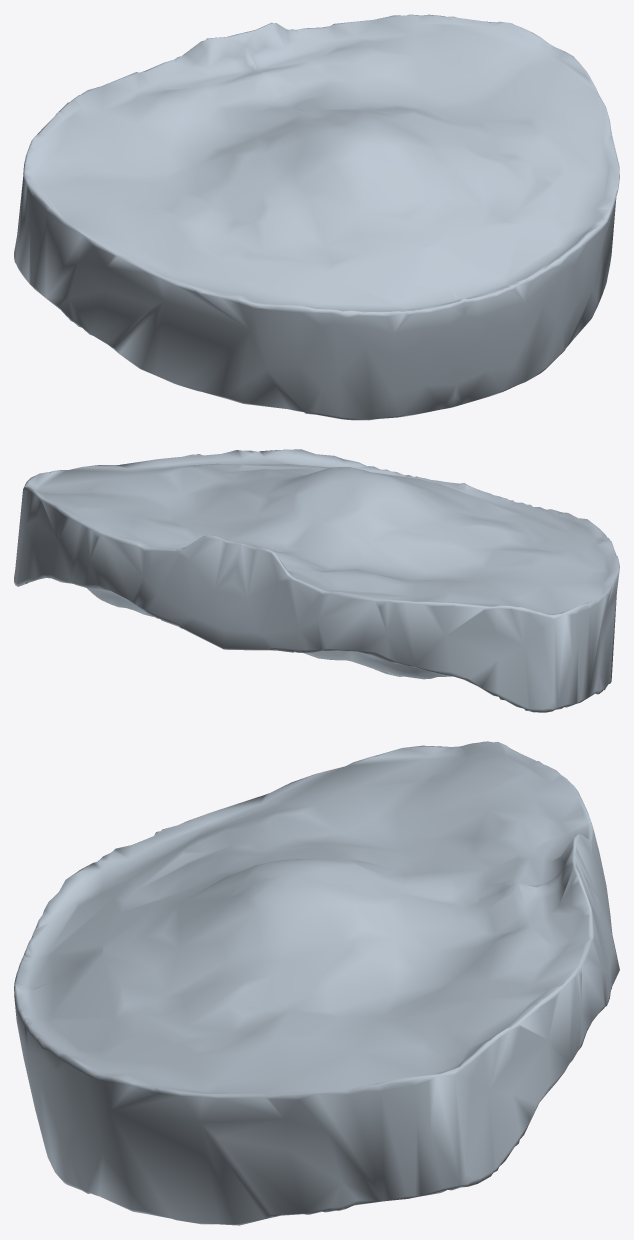
The model's file is intervertebral-disc-l4-l5.glb.
The picture shows the model from 3 angles, top to bottom: view 1: azimuth 30°, elevation 25°; view 2: azimuth 150°, elevation 25°; view 3: azimuth 270°, elevation 25°; orthographic projection. The views are drawn at different scales.
Parts seen in each view (by area): view 1: Intervertebral disc L4-L5; view 2: Intervertebral disc L4-L5; view 3: Intervertebral disc L4-L5.
Part boxes in pixels (x1,y1,x2,y2): Intervertebral disc L4-L5: (14,14,619,420); Intervertebral disc L4-L5: (14,449,619,712); Intervertebral disc L4-L5: (14,741,619,1225).
Bounding box in the file's own units: 0.0507 × 0.0196 × 0.0388.
